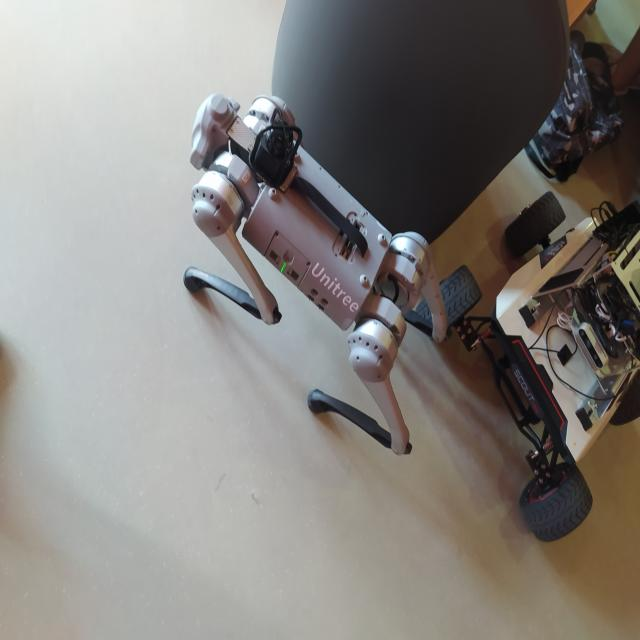unitree-go1-robot: (176, 74, 456, 475)
